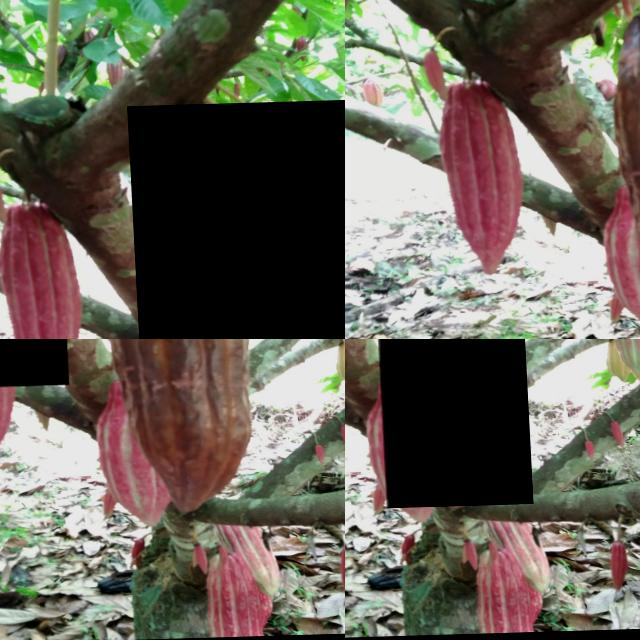Fitoftora: (369, 339, 527, 510)
Sana: (411, 0, 640, 339), (125, 101, 345, 339), (368, 395, 424, 531), (475, 554, 526, 636), (610, 339, 640, 383), (601, 545, 622, 591), (576, 442, 595, 470), (394, 540, 416, 560), (605, 427, 621, 451), (457, 543, 467, 568)
